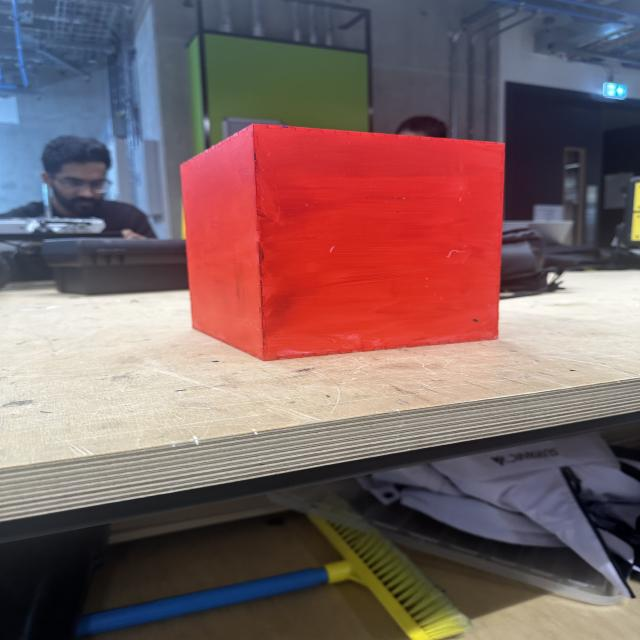red_bin: (179, 122, 506, 360)
